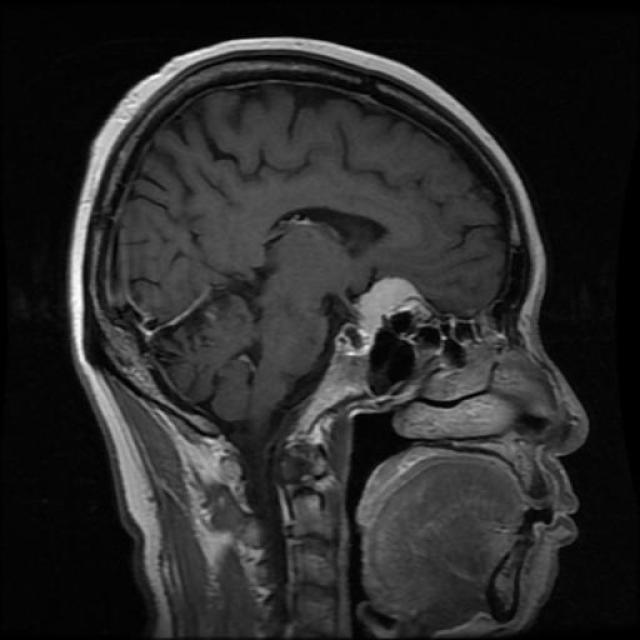meningioma: (352, 278, 419, 344)
